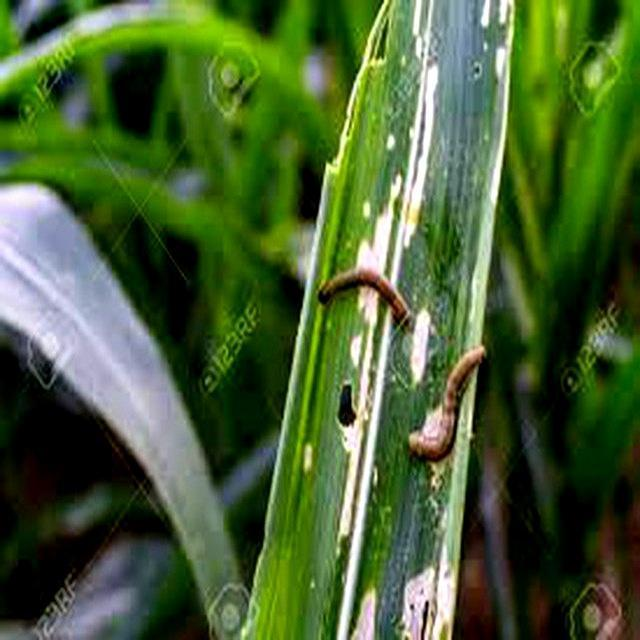gusano_cogollero: (402, 342, 486, 455), (320, 264, 410, 334)
